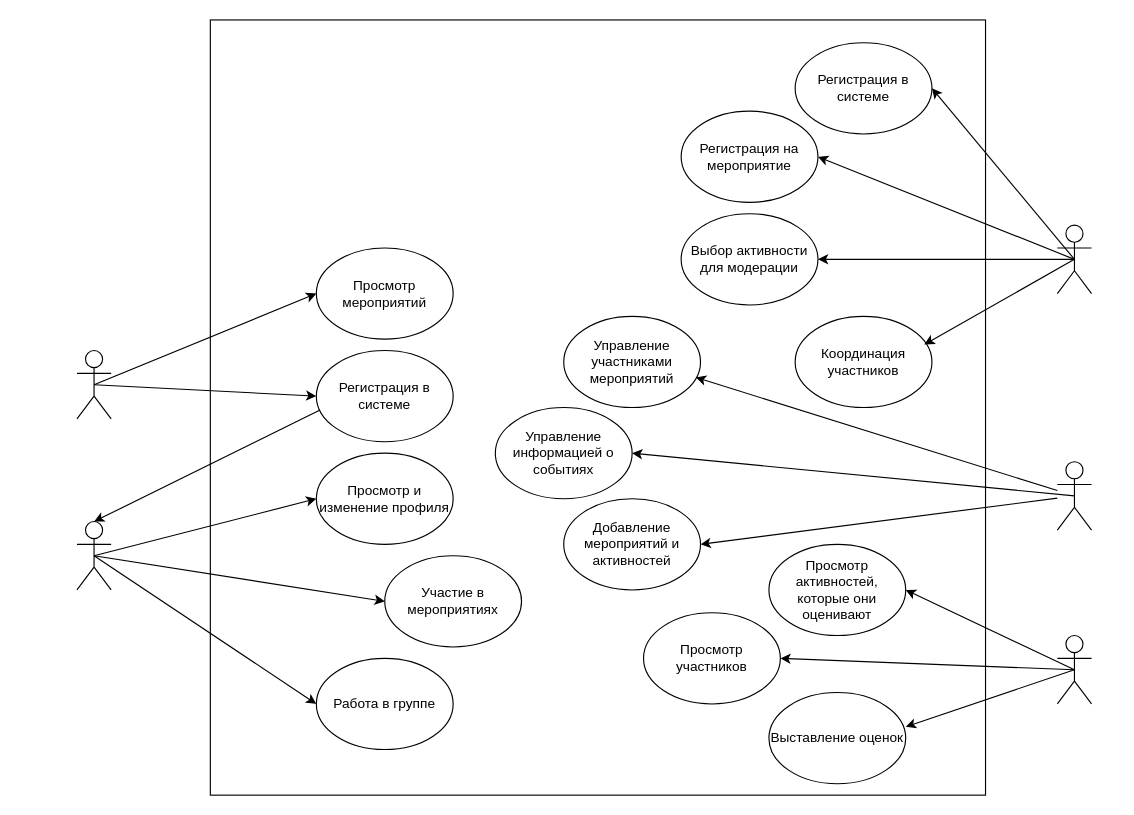
Some shapes in this 1134 by 815 pixel diagram are drawn without their labels. Each missing label, with the centre of its shape:
Внешний пользователь: the point at 93,384
Жюри: the point at 1074,669
Модератор: the point at 1074,259
Организатор: the point at 1074,495
Участник: the point at 93,555
